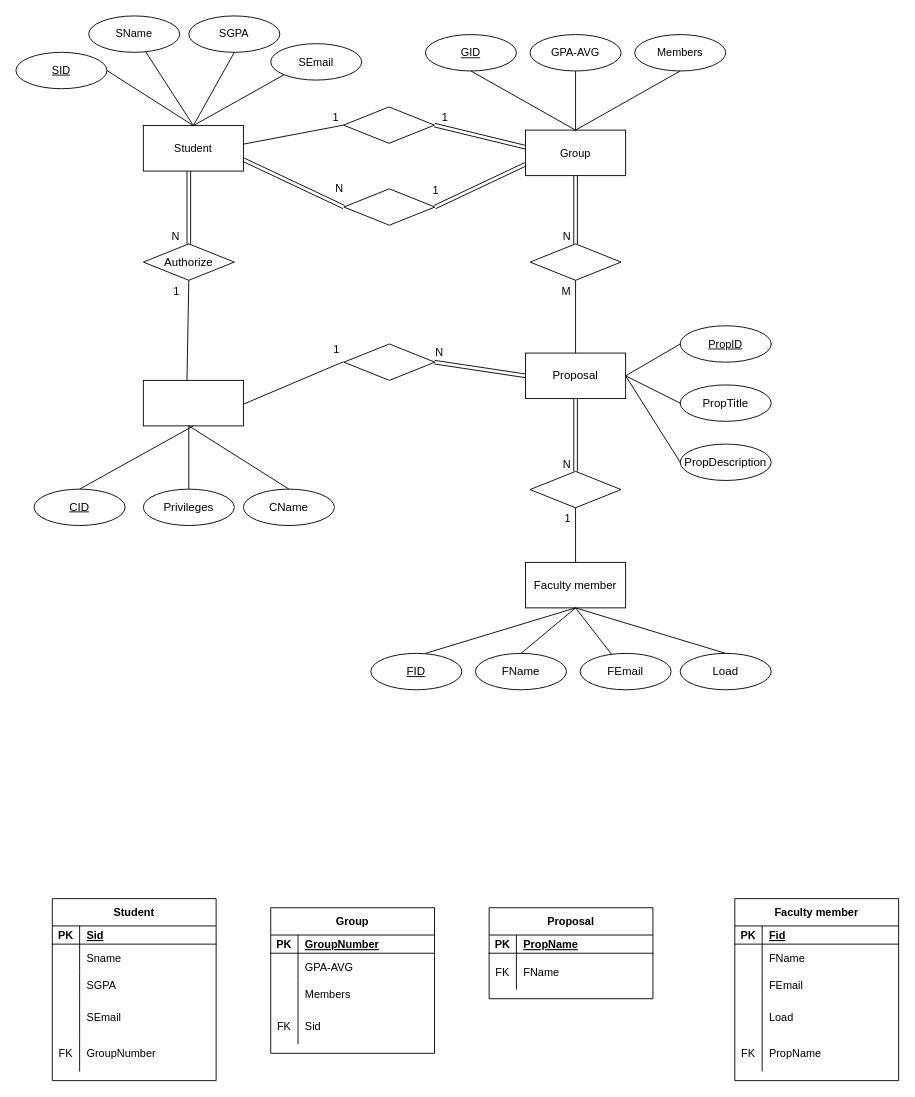
This 915x1097 diagram has some shape labels left out. Here are the shapes that lost their labels. From the top down, the centre of each, then its label:
point 389,124: Create
point 389,206: Join
point 575,261: Rank
point 389,361: Validate
point 192,402: Committee member
point 575,489: Add
